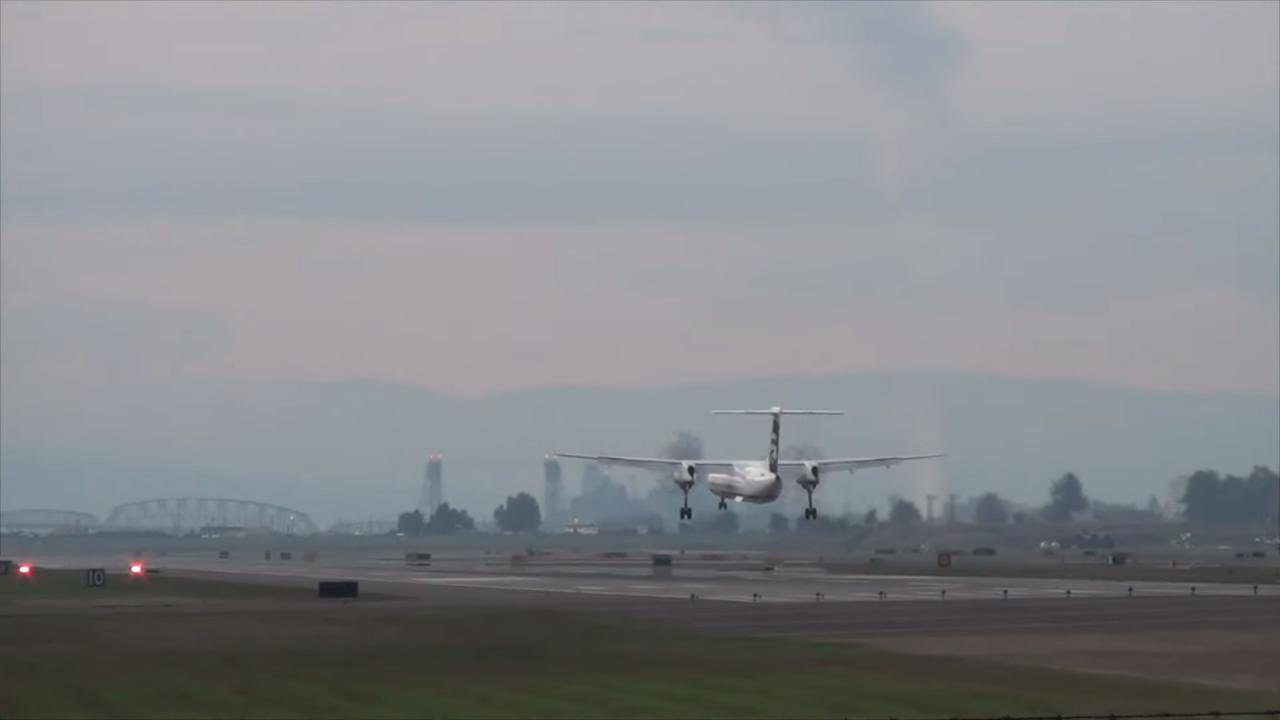Airplane: (536, 392, 952, 529)
